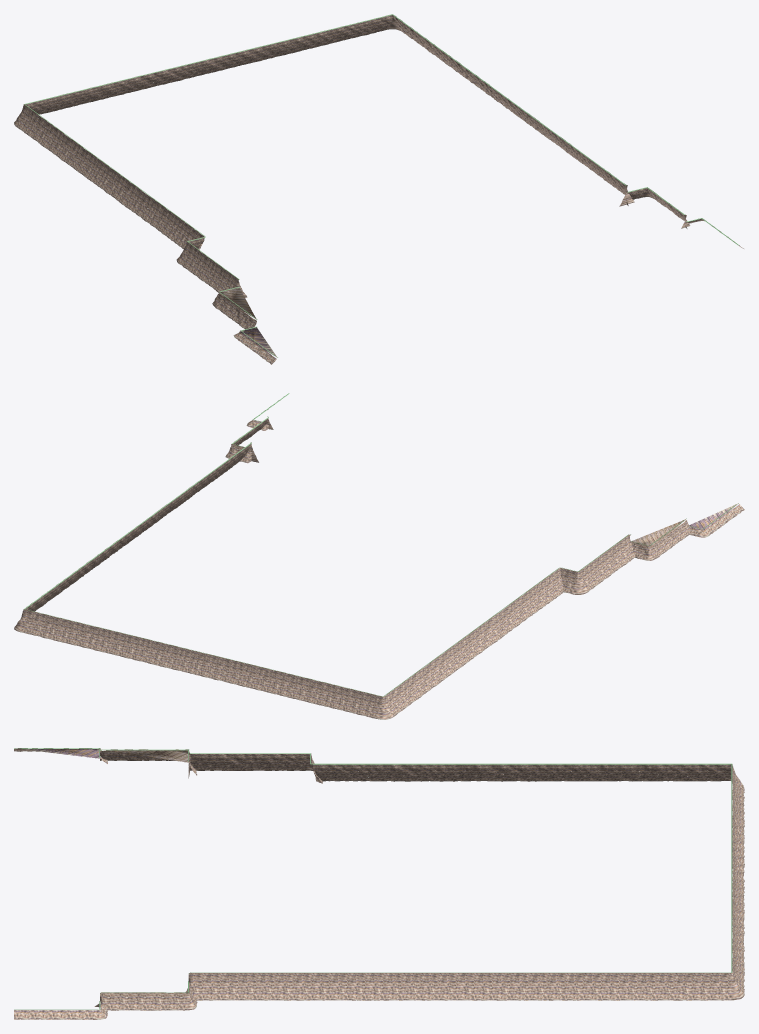
File: CliffWall_palace_mesa.glb
3 renders of one model, top to bottom at view 1: azimuth 30°, elevation 25°; view 2: azimuth 150°, elevation 25°; view 3: azimuth 270°, elevation 25°, orthographic. The views are drawn at different scales.
Parts seen in each view (by area): view 1: CliffWall_palace_mesa-rock0, CliffWall_palace_mesa-lip0, CliffWall_palace_mesa-rock3, CliffWall_palace_mesa-rock4; view 2: CliffWall_palace_mesa-rock0, CliffWall_palace_mesa-rock3, CliffWall_palace_mesa-lip0, CliffWall_palace_mesa-rock4; view 3: CliffWall_palace_mesa-rock0, CliffWall_palace_mesa-lip0, CliffWall_palace_mesa-rock1, CliffWall_palace_mesa-rock3, CliffWall_palace_mesa-rock2, CliffWall_palace_mesa-rock4.
Part boxes in pixels (box(x1,y1,x2,y2)): CliffWall_palace_mesa-rock0: box(14, 15, 634, 297); CliffWall_palace_mesa-lip0: box(24, 14, 627, 279); CliffWall_palace_mesa-rock3: box(212, 287, 256, 329); CliffWall_palace_mesa-rock4: box(233, 327, 277, 364); CliffWall_palace_mesa-rock0: box(14, 443, 634, 719); CliffWall_palace_mesa-rock3: box(631, 519, 689, 560); CliffWall_palace_mesa-lip0: box(24, 442, 630, 696); CliffWall_palace_mesa-rock4: box(689, 503, 744, 537); CliffWall_palace_mesa-rock0: box(188, 753, 744, 1000); CliffWall_palace_mesa-lip0: box(188, 753, 732, 973); CliffWall_palace_mesa-rock1: box(100, 981, 197, 1010); CliffWall_palace_mesa-rock3: box(100, 749, 197, 775); CliffWall_palace_mesa-rock2: box(14, 1001, 107, 1019); CliffWall_palace_mesa-rock4: box(14, 748, 107, 763).
Size of the model in its own units: 3154 by 123 by 3627.
Materials: 4 (1 with a texture image).
